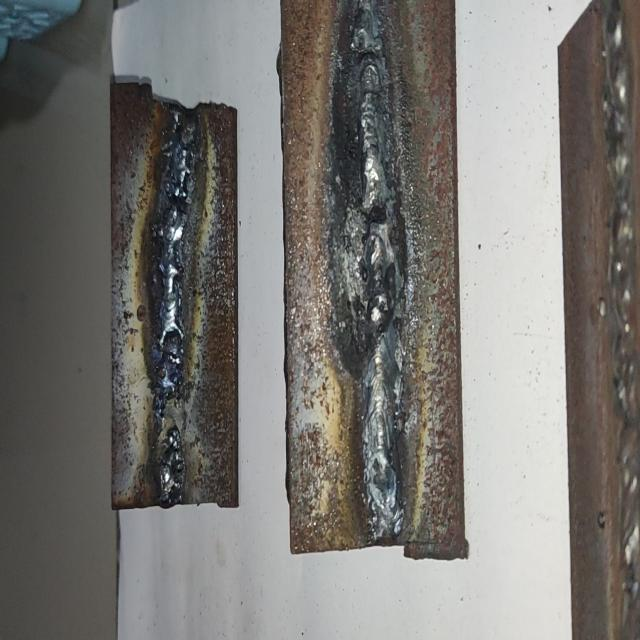Defect: (345, 182, 405, 354), (150, 120, 194, 226), (150, 363, 192, 468)
Welding Line: (356, 18, 395, 538), (155, 115, 189, 498)
Workpiece: (278, 0, 467, 554), (108, 89, 236, 508), (558, 4, 639, 640)
